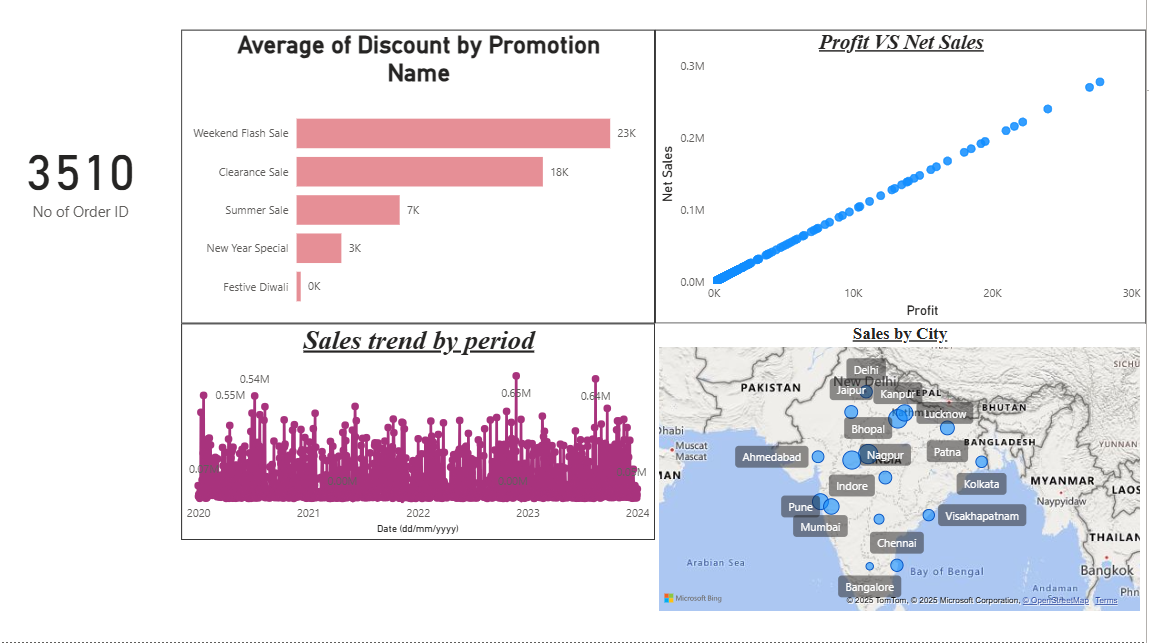

What the dashboard file says about the page in this screenshot:
{"tool":"powerbi","page":{"name":"Overview","canvas":[1280,720],"ordinal":0},"visuals":[{"type":"lineChart","title":"Sales trend by period","fields":{"Y":["Sum(Fact Table.Net Sales)"],"Category":["Fact Table.Date (dd/mm/yyyy).Variation.Date Hierarchy.Year"]},"box":[220.9,370.5,520.1,237.4],"z":0},{"type":"scatterChart","title":"Profit VS Net Sales","fields":{"Y":["Fact Table.Net Sales"],"X":["Fact Table.Profit"]},"box":[741,48,539.3,322.5],"z":1000},{"type":"barChart","fields":{"Y":["Avg(Fact Table.Discount)"],"Category":["Dim Promotion.Promotion Name"]},"box":[220.9,48,520.1,322.5],"z":2000},{"type":"map","title":"Sales by City","fields":{"Category":["Dim Customers.City"],"Size":["Sum(Fact Table.Net Sales)"]},"box":[741,370.5,537.9,321.1],"z":3000},{"type":"card","fields":{"Values":["Count(Fact Table.OrderID)"]},"box":[0,48,220.9,322.5],"z":4000}]}

Visuals, with their boxes in screenshot pixels (x1, y1, x2, y2), scaled from the page's 1280x720 canvas onto the 1149x643 screenshot:
"Sales trend by period" lineChart: (x1=198, y1=331, x2=665, y2=543)
"Profit VS Net Sales" scatterChart: (x1=665, y1=43, x2=1148, y2=331)
barChart - Avg(Fact Table.Discount) x Dim Promotion.Promotion Name: (x1=198, y1=43, x2=665, y2=331)
"Sales by City" map: (x1=665, y1=331, x2=1148, y2=618)
card - Count(Fact Table.OrderID): (x1=0, y1=43, x2=198, y2=331)
